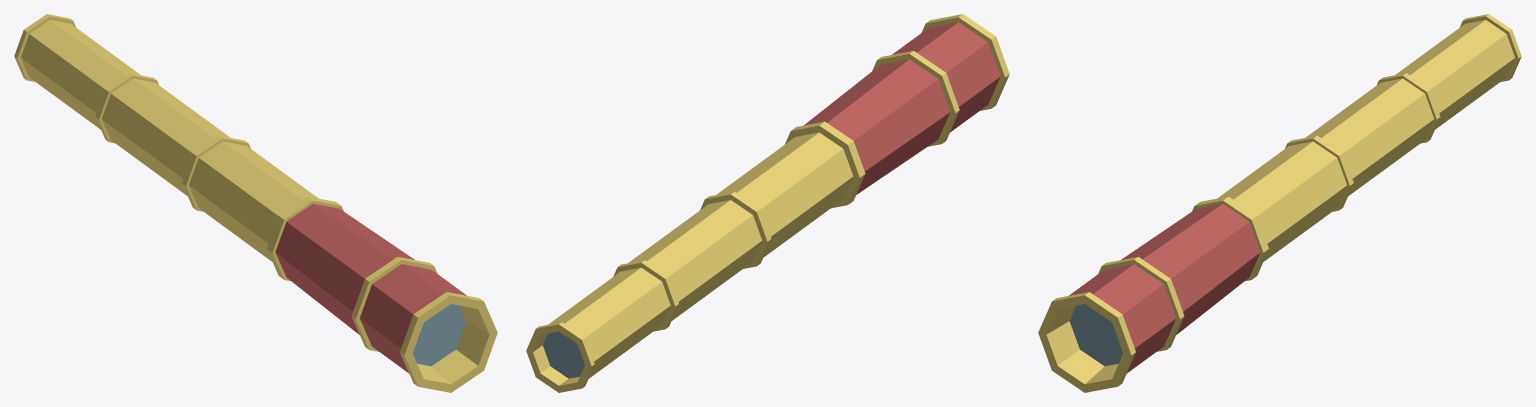
Rendered from atoll_Spyglass.fbx.
3 renders of one model, left to right at view 1: azimuth 30°, elevation 25°; view 2: azimuth 150°, elevation 25°; view 3: azimuth 330°, elevation 25°, orthographic.
Visible parts, largest first — view 1: Spyglass; view 2: Spyglass; view 3: Spyglass.
Boxes of the visible parts, box(x1,y1,x2,y2) form: Spyglass: box(14, 14, 497, 392); Spyglass: box(526, 14, 1009, 392); Spyglass: box(1038, 14, 1521, 392).
Size of the model in its own units: 9.06 by 9.06 by 67.93.
